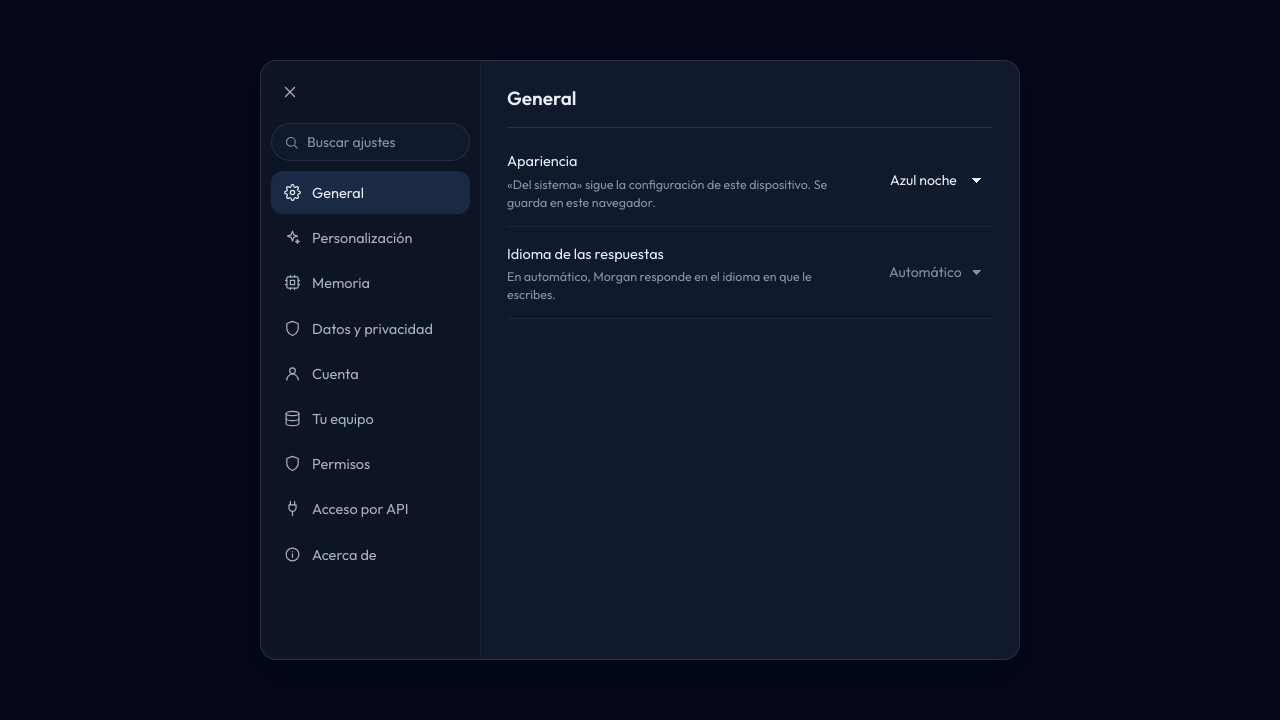
Test: Los tokens de API en Ajustes › el buscador de Ajustes lo encuentra por «token»
Type "token" into the search field labelled "Buscar ajustes". click: (382, 142)
box: top-left (307, 131), bottom-right (457, 153)
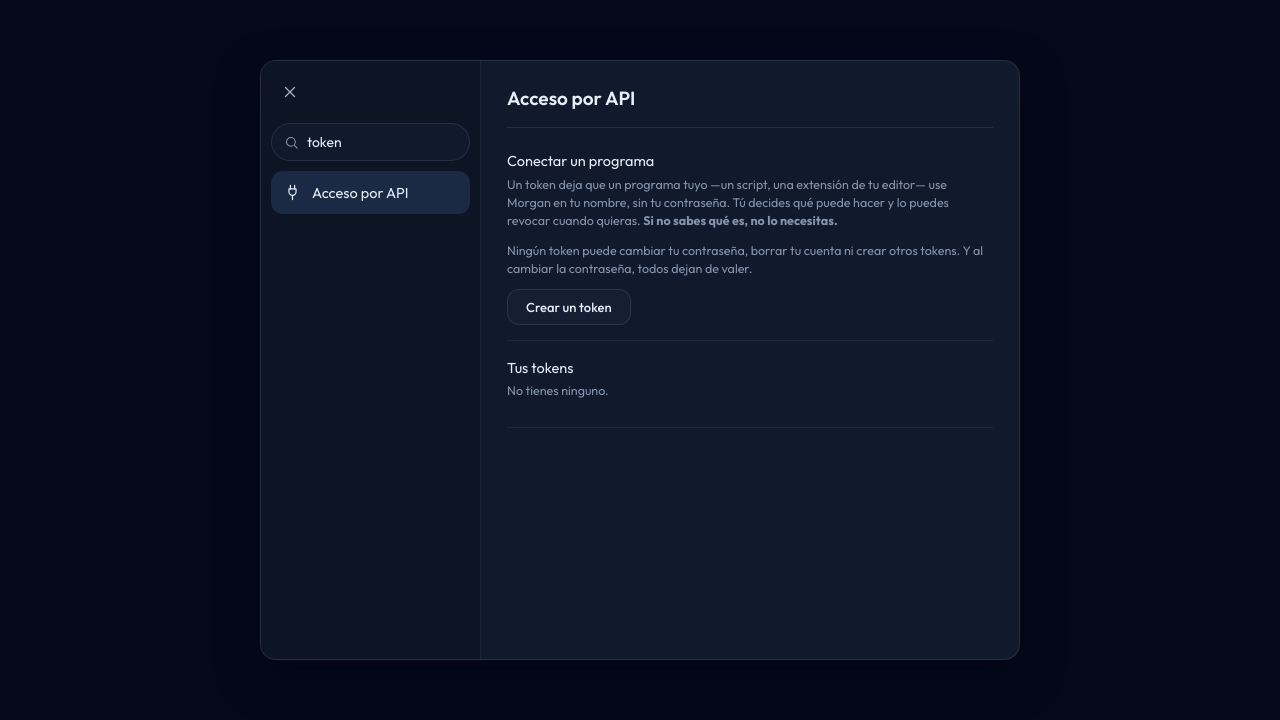
Expected: the text "Acceso por API" is shown, top-left (312, 181), bottom-right (408, 204)
Now the button "Crear un token" is shown, box top-left (507, 289), bottom-right (631, 325)
